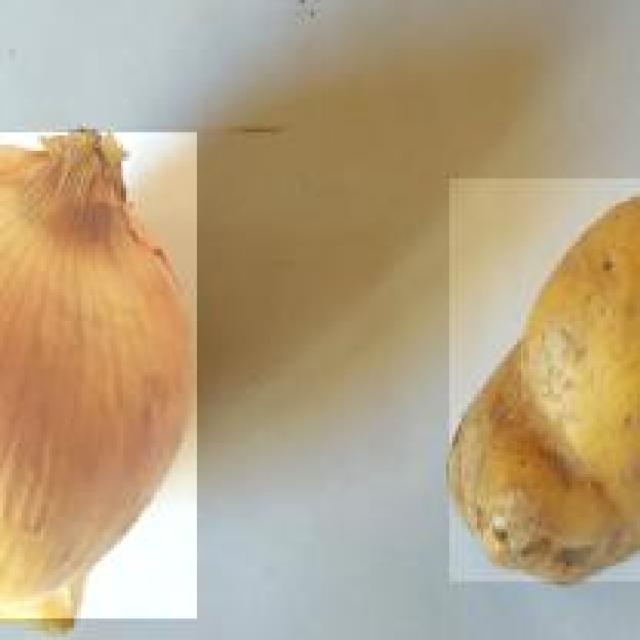onion: (0, 133, 200, 622)
potato: (449, 178, 640, 584)
